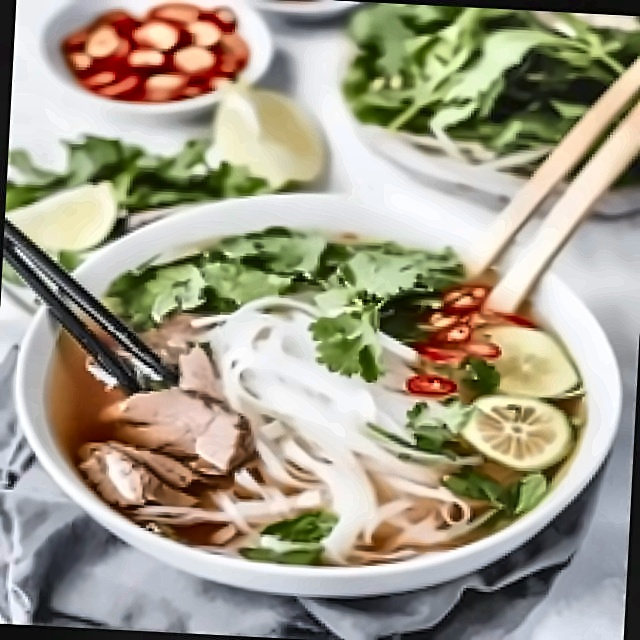lime_wedge: (201, 62, 336, 198), (2, 166, 128, 272)
noodle: (205, 288, 458, 576)
